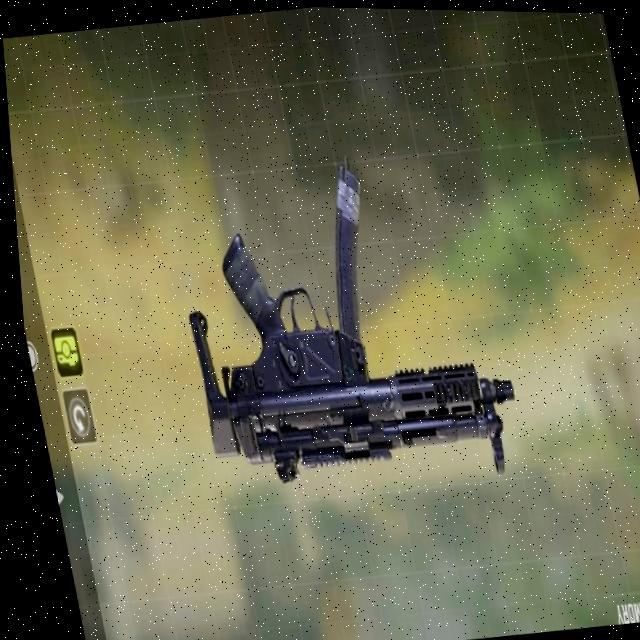firearm: (150, 128, 525, 507)
